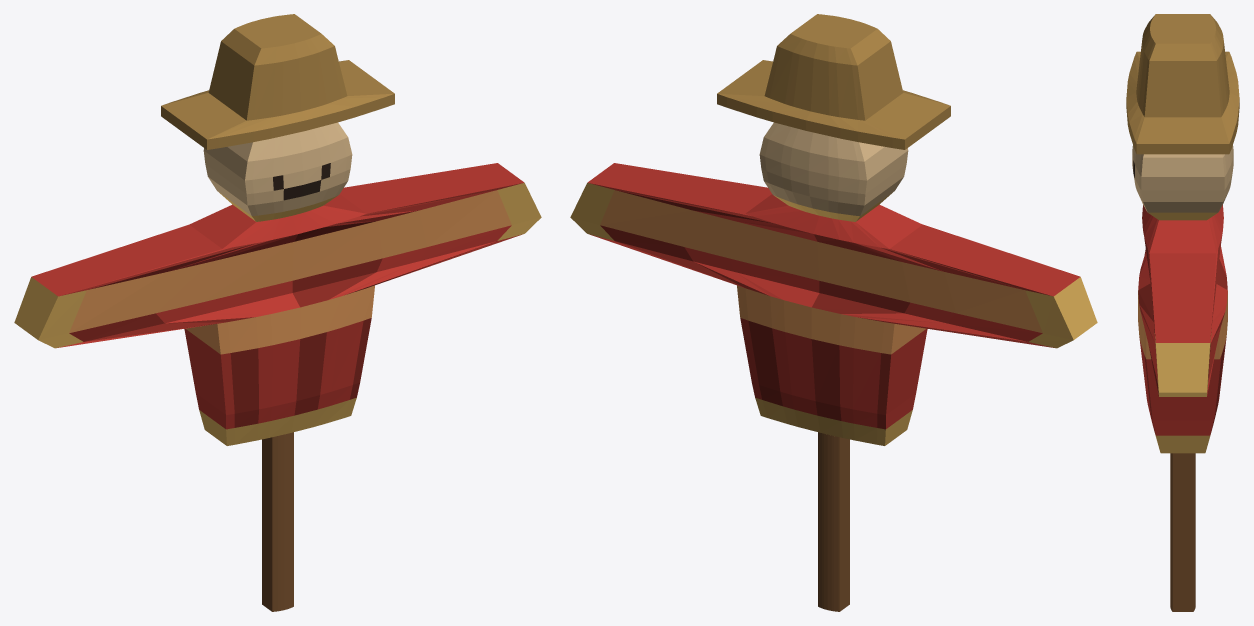
File: NEW_RECOVERY_020_LOD2.glb
The picture shows the model from 3 angles, left to right: view 1: azimuth 30°, elevation 25°; view 2: azimuth 150°, elevation 25°; view 3: azimuth 270°, elevation 25°; orthographic projection.
Parts seen in each view (by area): view 1: Scarecrow; view 2: Scarecrow; view 3: Scarecrow.
Boxes of the visible parts, <box> form: Scarecrow: <box>14,14,541,611</box>; Scarecrow: <box>570,14,1097,611</box>; Scarecrow: <box>1126,14,1239,611</box>.
Bounding box in the file's own units: 3 × 3.27 × 0.5801.
